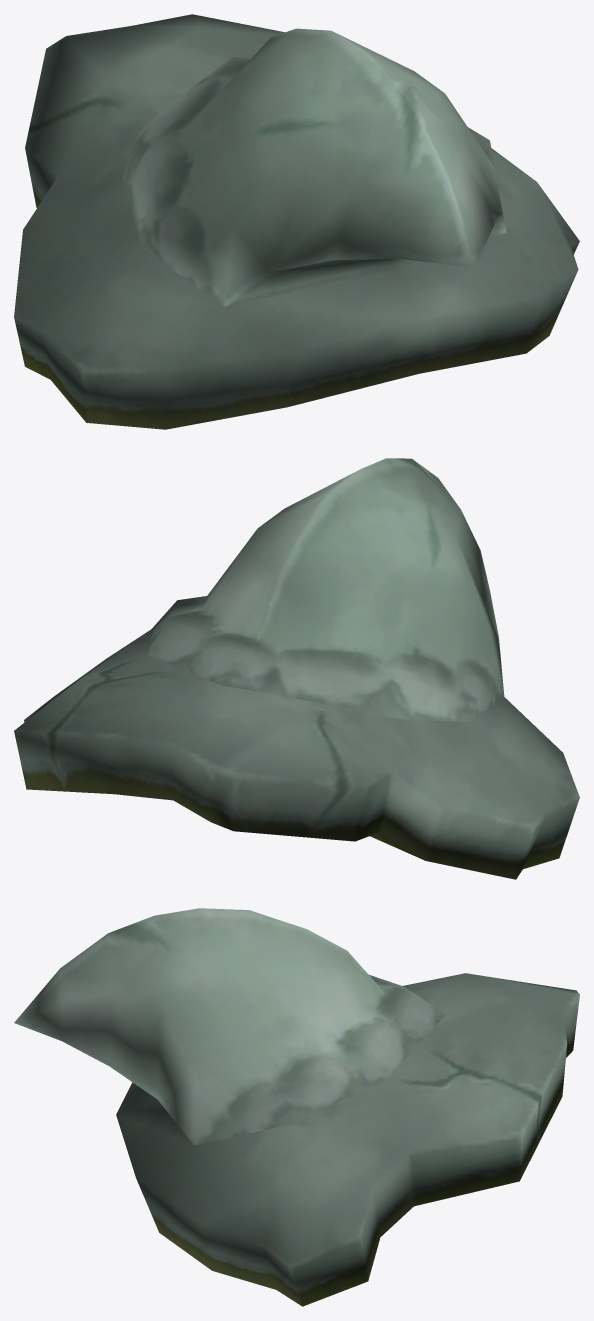
Rendered from Item_Enemy_51.glb.
3 renders of one model, top to bottom at view 1: azimuth 30°, elevation 25°; view 2: azimuth 150°, elevation 25°; view 3: azimuth 270°, elevation 25°, orthographic. The views are drawn at different scales.
Parts seen in each view (by area): view 1: Item_Enemy_51; view 2: Item_Enemy_51; view 3: Item_Enemy_51.
Boxes of the visible parts, box(x1,y1,x2,y2) form: Item_Enemy_51: box(14, 14, 579, 429); Item_Enemy_51: box(14, 458, 579, 879); Item_Enemy_51: box(14, 908, 579, 1306).
Size of the model in its own units: 0.9336 by 0.584 by 1.02.
1 material, 1 textured.
